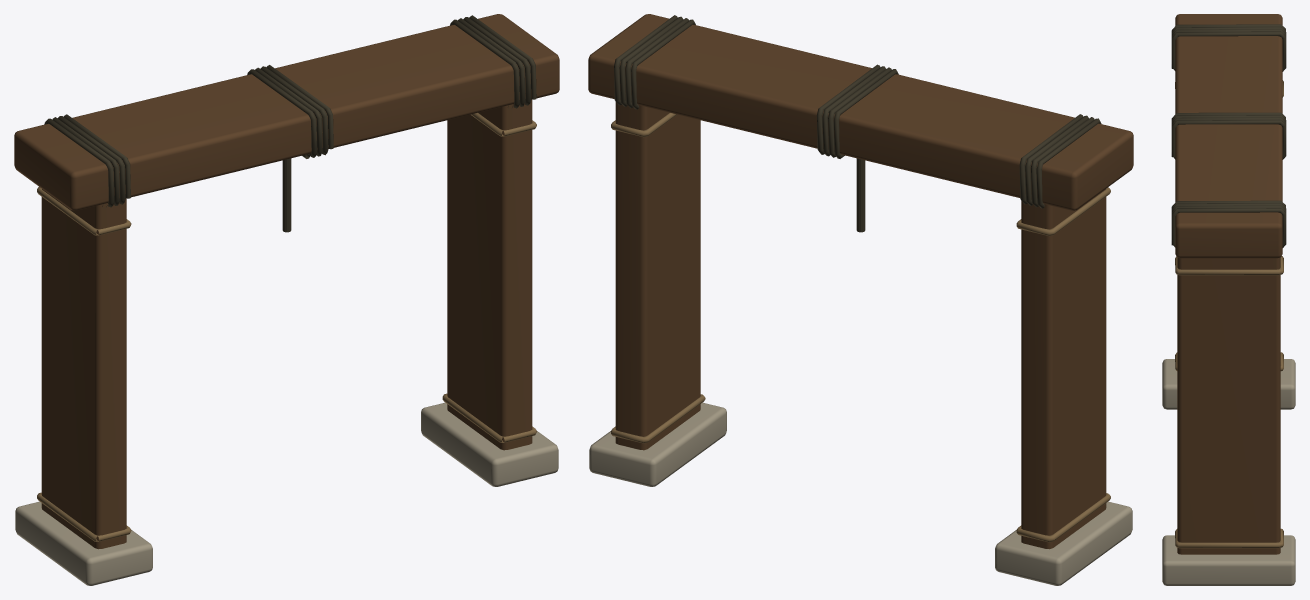
The model's file is bell-mount.glb.
3 views of the same model, side by side, from view 1: azimuth 30°, elevation 25°; view 2: azimuth 150°, elevation 25°; view 3: azimuth 270°, elevation 25° (orthographic). The views are drawn at different scales.
Visible parts, largest first — view 1: BellMount; view 2: BellMount; view 3: BellMount.
Boxes of the visible parts, x1,y1,x2,y2 form: BellMount: (14, 14, 559, 585); BellMount: (588, 14, 1133, 585); BellMount: (1162, 14, 1295, 585).
Size of the model in its own units: 2.34 by 1.9 by 0.62.
